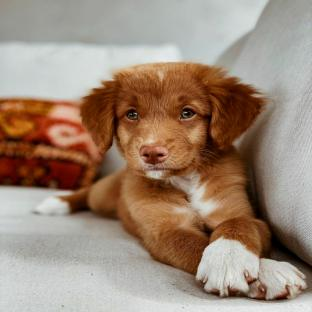Animal: (36, 62, 306, 300)
